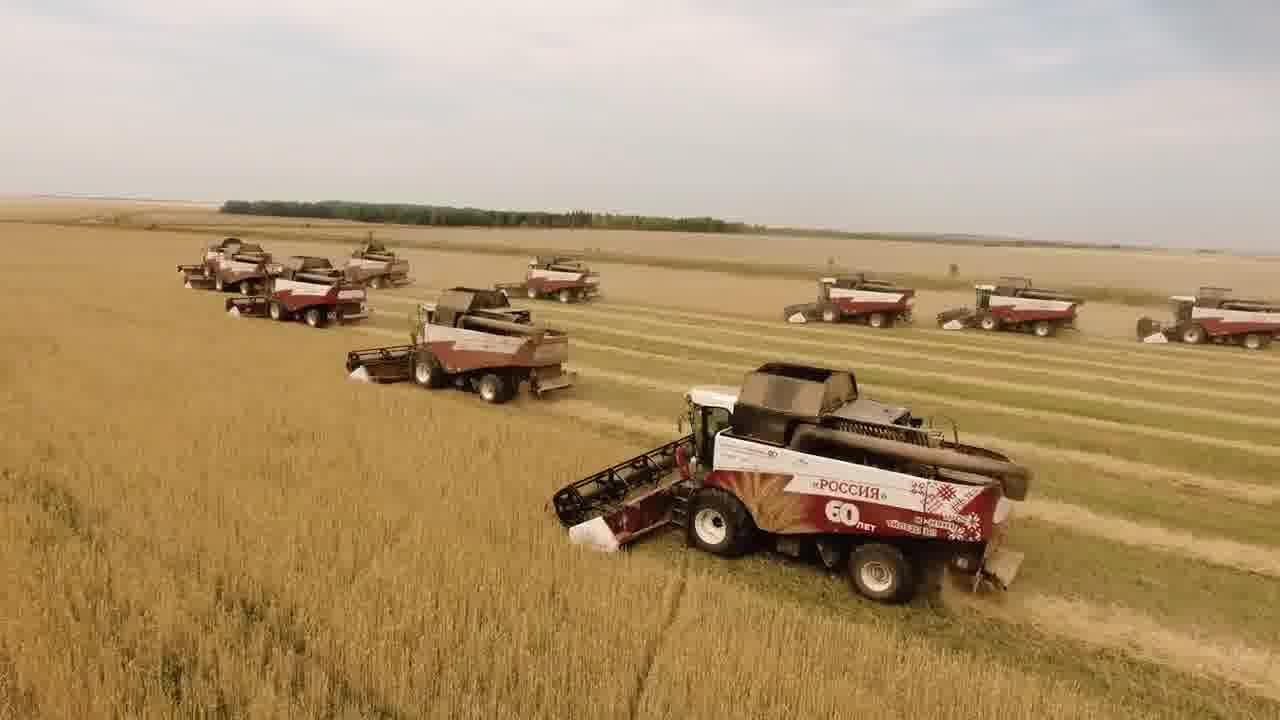combine harvester: (543, 356, 1037, 606), (343, 285, 577, 403), (221, 262, 372, 333), (1133, 282, 1280, 352), (932, 277, 1083, 339), (779, 269, 919, 332), (492, 248, 606, 304), (175, 236, 271, 297), (341, 240, 413, 293)
